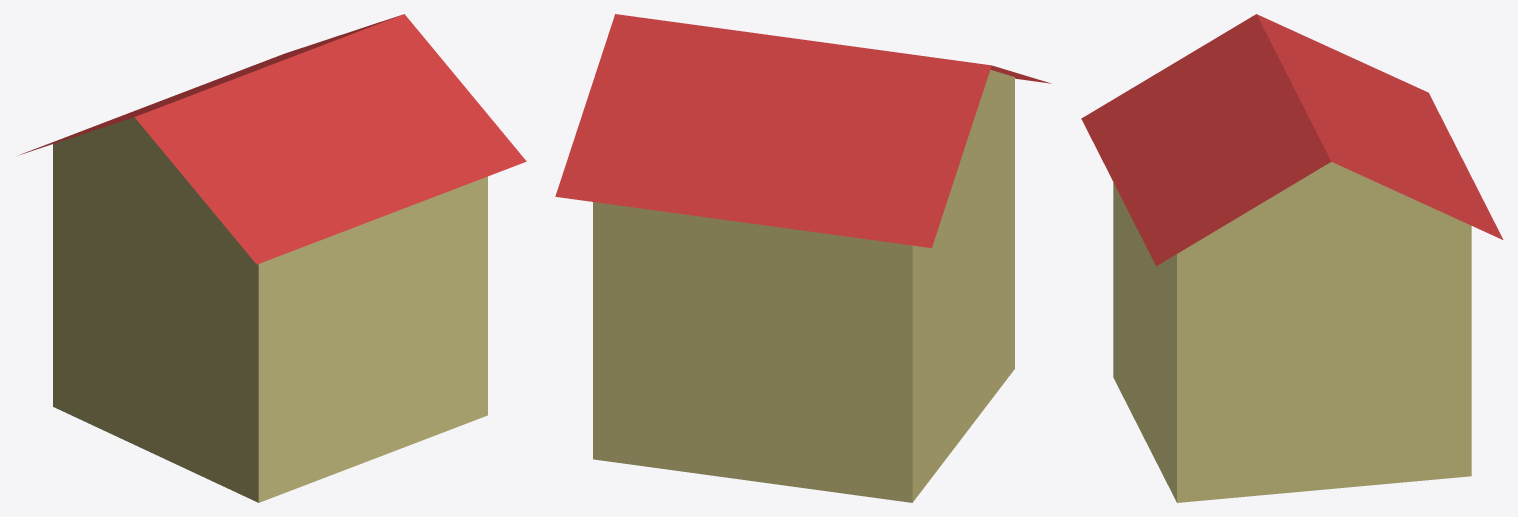
3 views of the same model, side by side, from view 1: azimuth 30°, elevation 25°; view 2: azimuth 150°, elevation 25°; view 3: azimuth 270°, elevation 25° (orthographic). The views are drawn at different scales.
Bounding box in the file's own units: 15.66 × 15.6 × 13.8.
